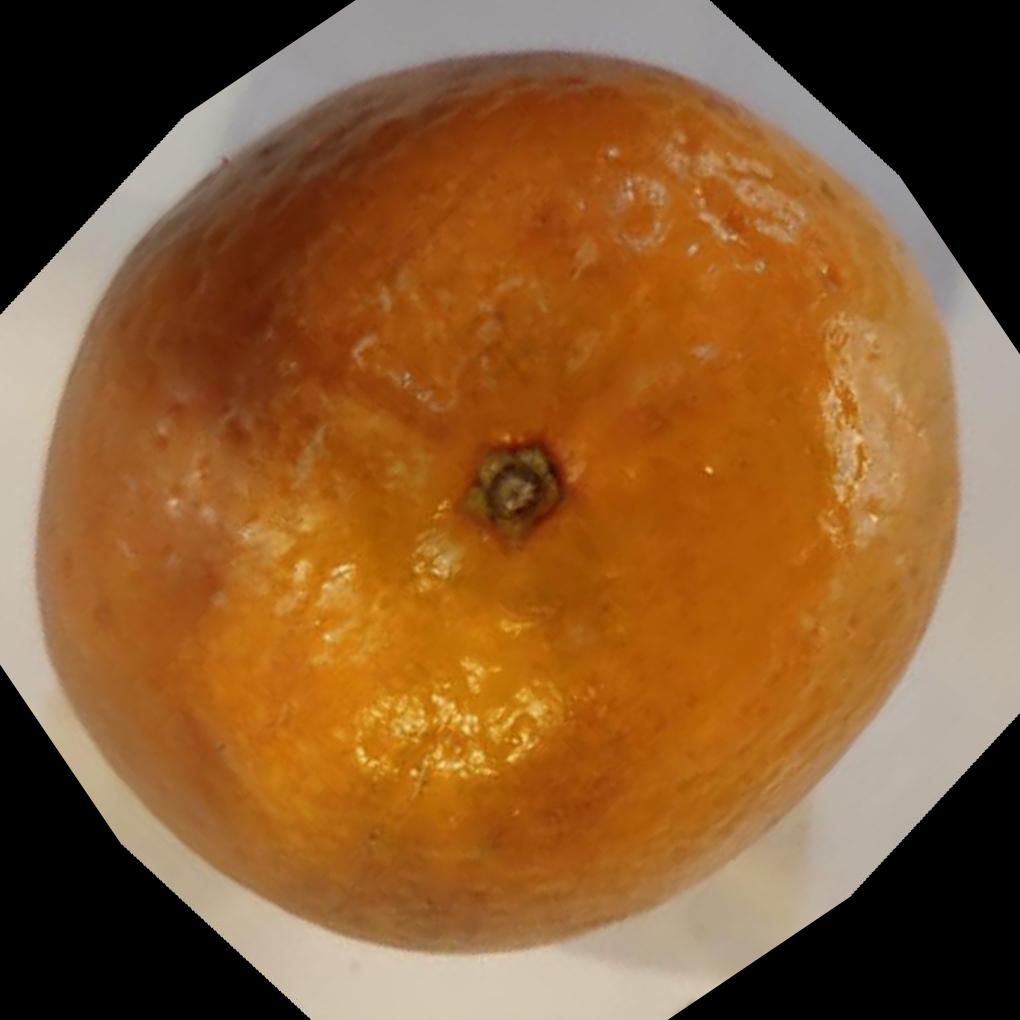FreshOrange: (28, 49, 958, 957)
